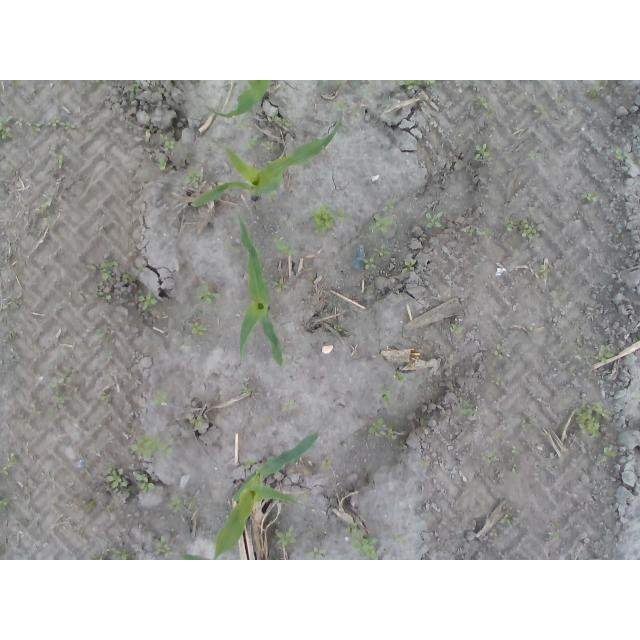Maize: (213, 432, 320, 560), (189, 120, 343, 207), (237, 212, 286, 366), (205, 80, 272, 117)
Weeds: (309, 202, 351, 239), (574, 398, 611, 438), (346, 521, 382, 560), (127, 431, 177, 458), (17, 118, 76, 137), (369, 208, 400, 240), (193, 283, 223, 306), (103, 464, 130, 489), (165, 495, 200, 513), (272, 233, 297, 257), (132, 471, 158, 494), (136, 289, 160, 311), (473, 96, 494, 121), (97, 258, 119, 281), (519, 217, 540, 240), (0, 451, 16, 481), (424, 208, 444, 232), (153, 535, 173, 558), (462, 226, 495, 239), (272, 528, 297, 545), (459, 399, 481, 418), (47, 382, 65, 405), (596, 343, 617, 362), (158, 132, 177, 153), (0, 115, 14, 143), (238, 135, 258, 154), (150, 389, 169, 408), (398, 80, 434, 90), (183, 167, 203, 184), (472, 144, 492, 161), (190, 320, 210, 336), (373, 240, 391, 257), (367, 416, 385, 433), (270, 110, 288, 127), (271, 276, 289, 292), (47, 153, 65, 169), (305, 548, 327, 561), (498, 512, 514, 528), (603, 447, 618, 464), (34, 203, 51, 218), (383, 383, 397, 401), (110, 548, 129, 561), (363, 256, 378, 272), (98, 287, 114, 302), (483, 448, 497, 465), (384, 197, 401, 211), (335, 96, 349, 113), (552, 93, 569, 107), (401, 259, 416, 274), (611, 147, 627, 161), (493, 343, 506, 360), (448, 324, 464, 337), (120, 272, 136, 285), (392, 532, 409, 544), (393, 371, 408, 384), (320, 458, 336, 470), (240, 387, 257, 398), (503, 216, 514, 233), (189, 416, 203, 429), (538, 262, 551, 276), (87, 498, 98, 514), (30, 400, 40, 417), (591, 80, 601, 97), (242, 457, 256, 469), (489, 375, 504, 386), (446, 351, 455, 369), (534, 102, 550, 112), (96, 327, 112, 337), (581, 191, 594, 203), (548, 530, 561, 542), (385, 430, 399, 441), (0, 495, 8, 513), (287, 398, 298, 410), (159, 160, 169, 172), (263, 141, 273, 152), (527, 151, 537, 161), (97, 392, 108, 401), (489, 527, 498, 538), (13, 80, 23, 89), (335, 324, 346, 332), (95, 80, 112, 85), (293, 491, 305, 498), (511, 446, 521, 454), (521, 417, 527, 430), (104, 352, 113, 360), (93, 556, 103, 561), (415, 459, 422, 466), (634, 336, 640, 341)
